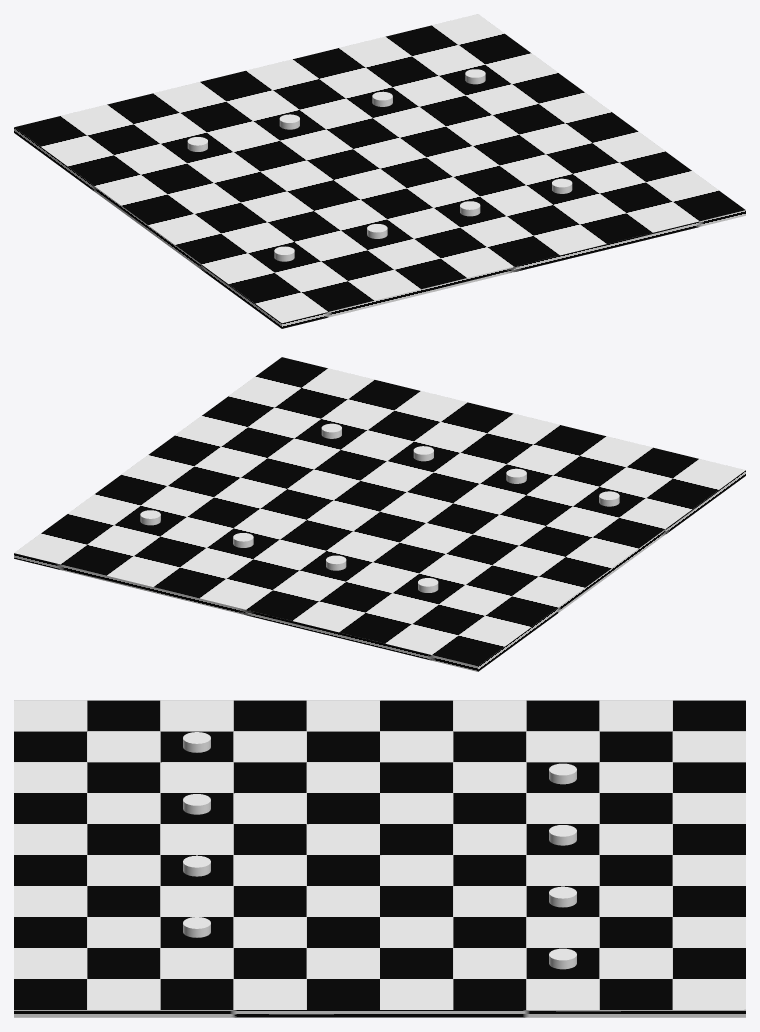
Rendered from tenjo4.fbx.
3 views of the same model, one above another, from view 1: azimuth 30°, elevation 25°; view 2: azimuth 150°, elevation 25°; view 3: azimuth 270°, elevation 25° (orthographic). The views are drawn at different scales.
Parts seen in each view (by area): view 1: pCube4; view 2: pCube4; view 3: pCube4, pCylinder4 (×2), pCylinder1 (×2), pCylinder2 (×2), pCylinder3 (×2).
Boxes of the visible parts, x1,y1,x2,y2 form: pCube4: (14, 14, 745, 328); pCube4: (14, 357, 745, 671); pCube4: (14, 700, 745, 1017); pCylinder4 (×2): (183, 732, 576, 784); pCylinder1 (×2): (183, 917, 576, 969); pCylinder2 (×2): (183, 855, 576, 907); pCylinder3 (×2): (183, 794, 576, 845).
Bounding box in the file's own units: 2600 × 100 × 2600.
Materials: 2 (1 with a texture image).
